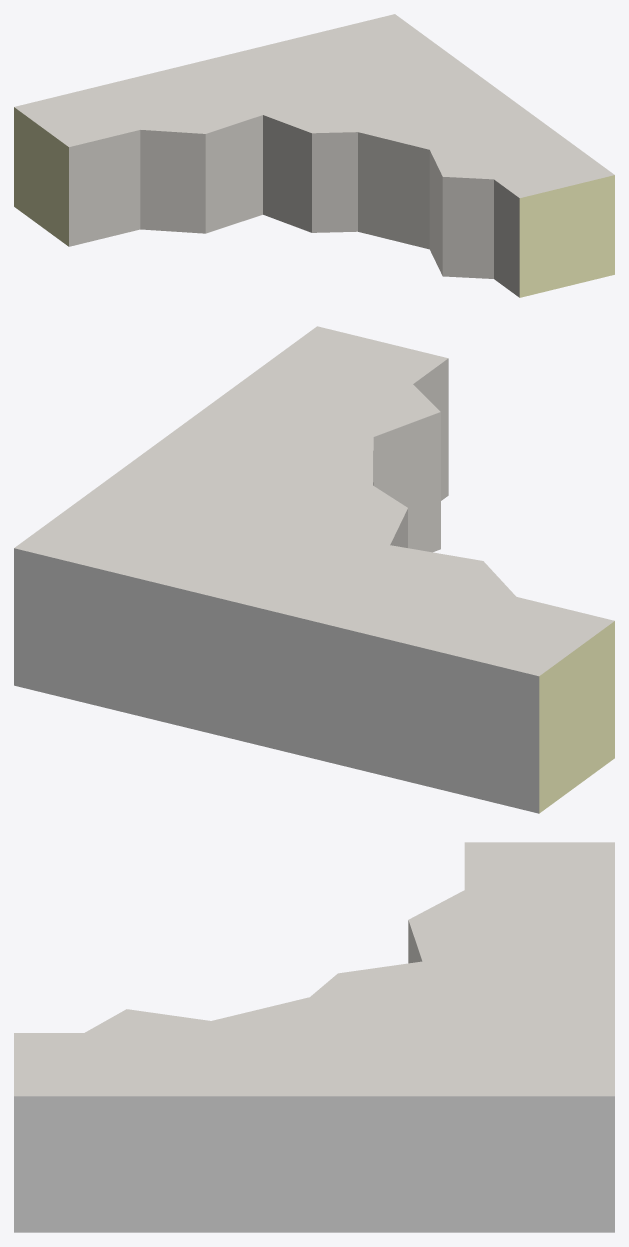
Rendered from Cracked_Curve_Inner_4x4_1_Mid.glb.
3 views of the same model, one above another, from view 1: azimuth 30°, elevation 25°; view 2: azimuth 150°, elevation 25°; view 3: azimuth 270°, elevation 25° (orthographic). The views are drawn at different scales.
Parts seen in each view (by area): view 1: Cracked_Curve_Inner_4x4_1_Mid; view 2: Cracked_Curve_Inner_4x4_1_Mid; view 3: Cracked_Curve_Inner_4x4_1_Mid.
Part boxes in pixels (x1,y1,x2,y2): Cracked_Curve_Inner_4x4_1_Mid: (14,14,614,297); Cracked_Curve_Inner_4x4_1_Mid: (14,326,614,813); Cracked_Curve_Inner_4x4_1_Mid: (14,842,614,1232).
Bounding box in the file's own units: 400 × 100 × 400.
